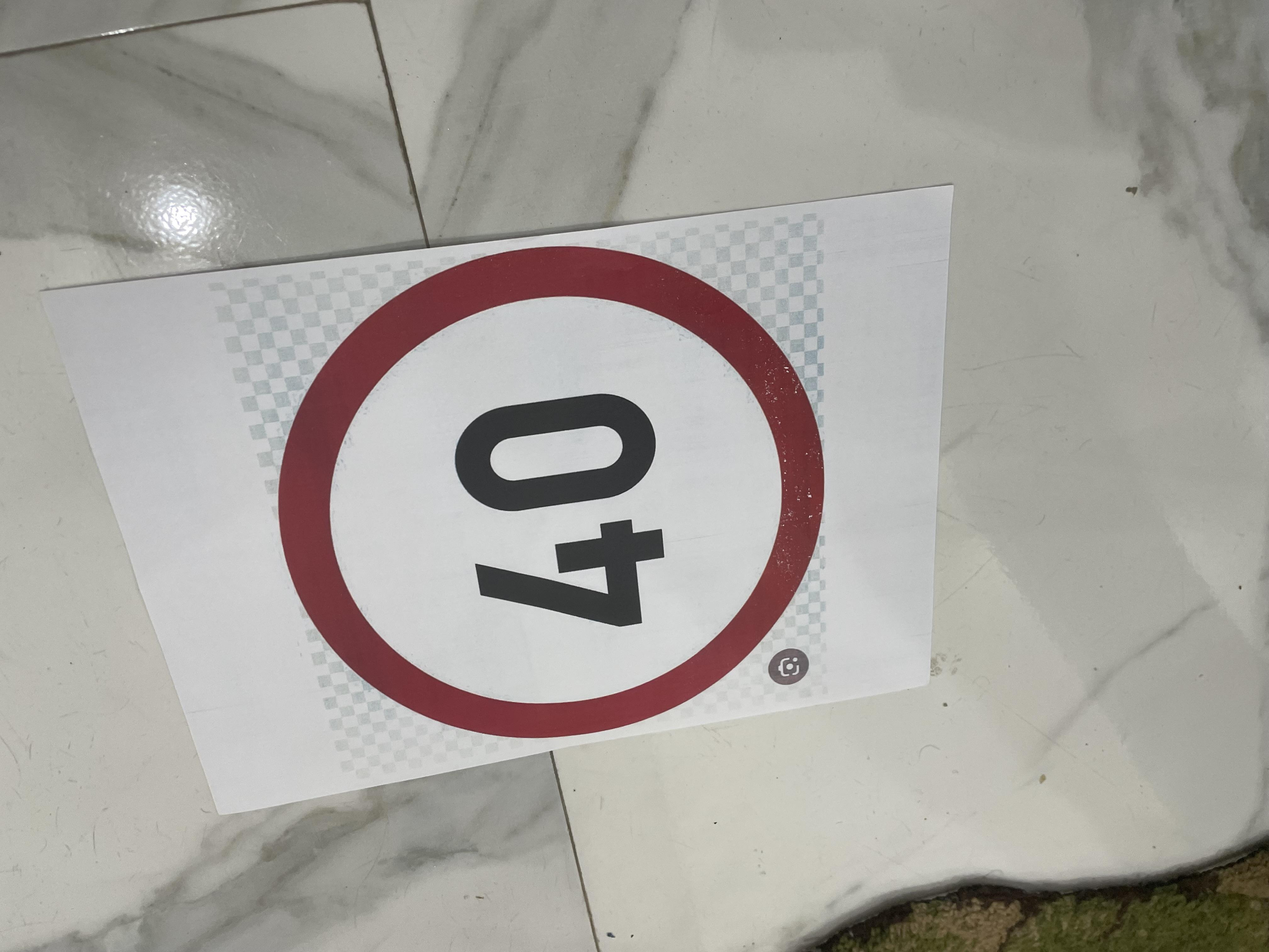40-Speed: (265, 211, 952, 619)
